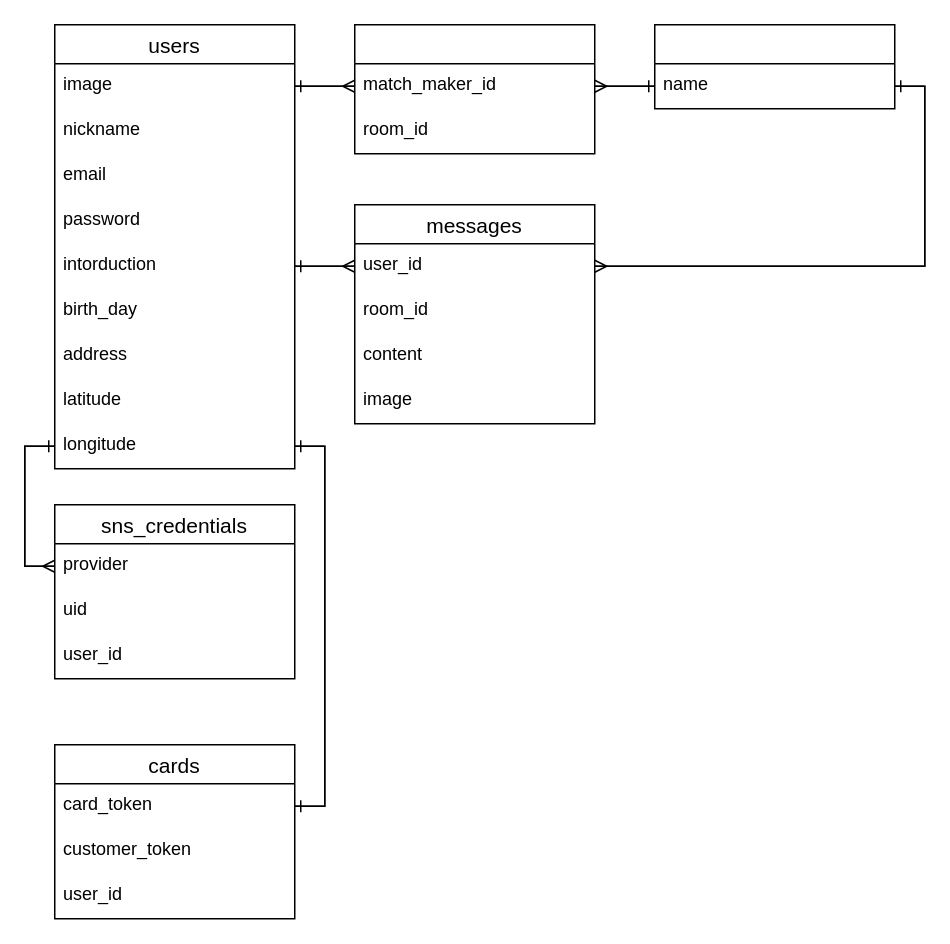
The diagram is 950 pixels wide and 944 high, and some of its shapes have lost their labels. The box of each missing label's shape, as (x1, y1, x2, y2) in pixels:
room_users: (353, 23, 595, 154)
rooms: (653, 23, 895, 109)
